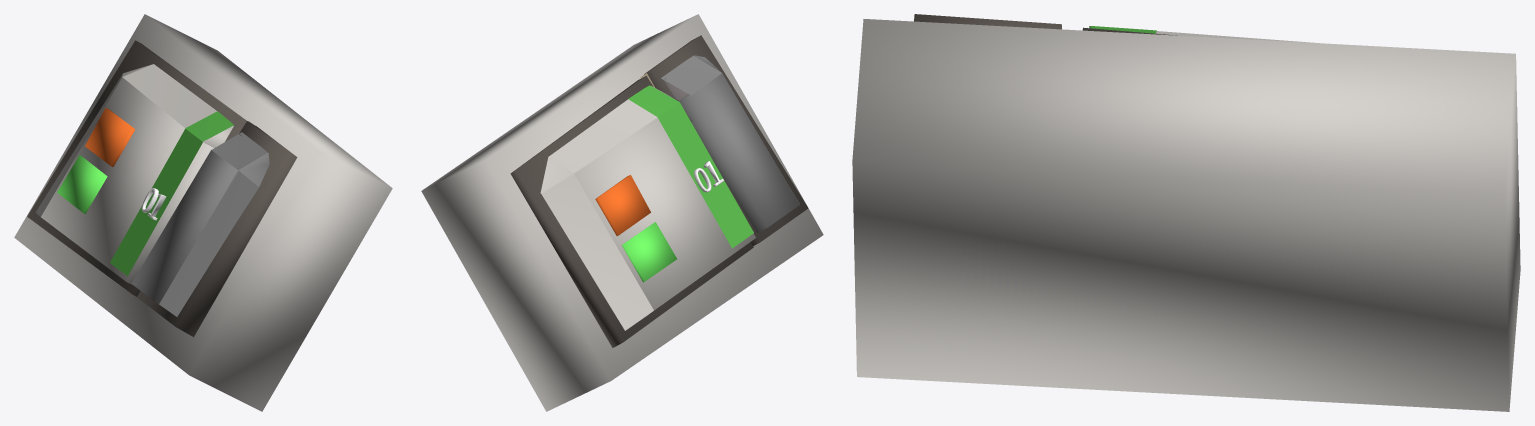
Rendered from Keycard Padlock L1.fbx.
3 views of the same model, side by side, from view 1: azimuth 30°, elevation 25°; view 2: azimuth 150°, elevation 25°; view 3: azimuth 270°, elevation 25° (orthographic). The views are drawn at different scales.
Parts seen in each view (by area): view 1: 1d40fdbb-9642-4339-af95-186aae1bd834; view 2: 1d40fdbb-9642-4339-af95-186aae1bd834; view 3: 1d40fdbb-9642-4339-af95-186aae1bd834.
Boxes of the visible parts, box(x1,y1,x2,y2) form: 1d40fdbb-9642-4339-af95-186aae1bd834: box(14, 14, 392, 411); 1d40fdbb-9642-4339-af95-186aae1bd834: box(421, 14, 823, 411); 1d40fdbb-9642-4339-af95-186aae1bd834: box(852, 14, 1520, 411).
Size of the model in its own units: 2466 by 2698 by 3849.
